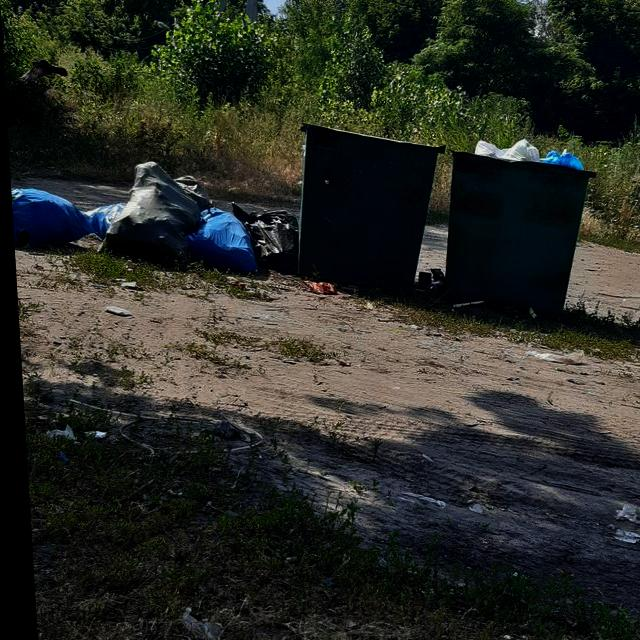Trash_Can_Empty: (287, 120, 451, 294)
Trash_Can_Full: (429, 139, 602, 320)
